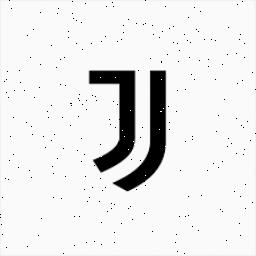j: (85, 62, 141, 174)
